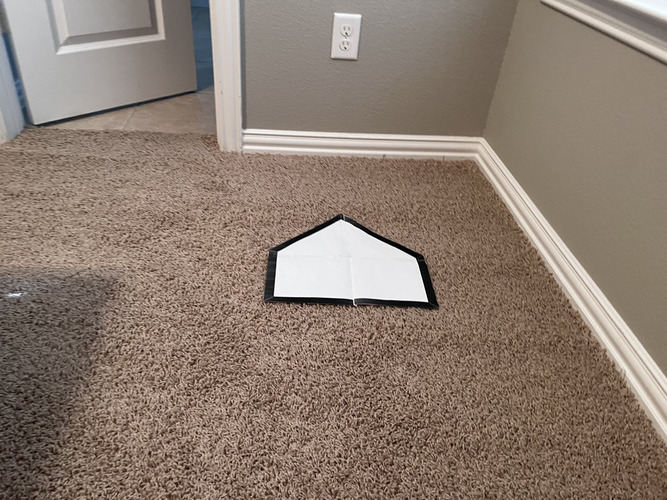homeplate: (264, 214, 438, 309)
